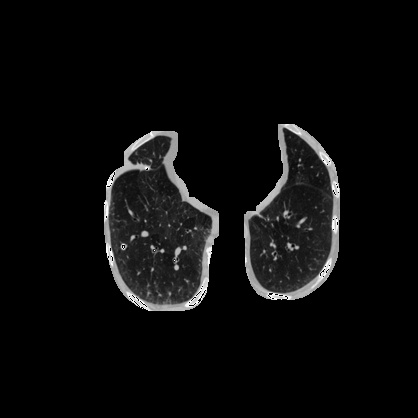PN: (119, 242, 127, 250)
